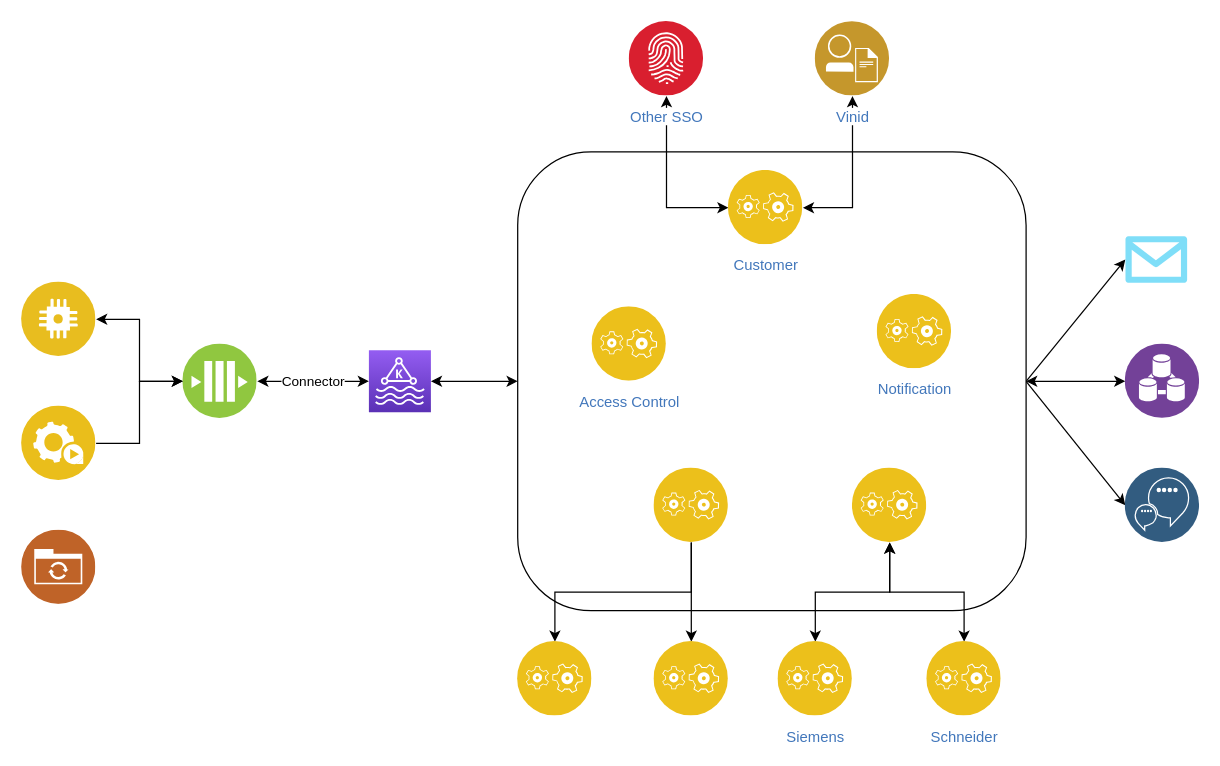
Some shapes in this 1220 by 766 pixel diagram are drawn without their labels. The shapes that lost their labels are listed below. From the top down, each one's centre as x and y in pixels, then its label:
At point (1162, 380): "Cassandra".
At point (690, 504): "Parking".
At point (889, 504): "BMS".
At point (1162, 504): "SMS".
